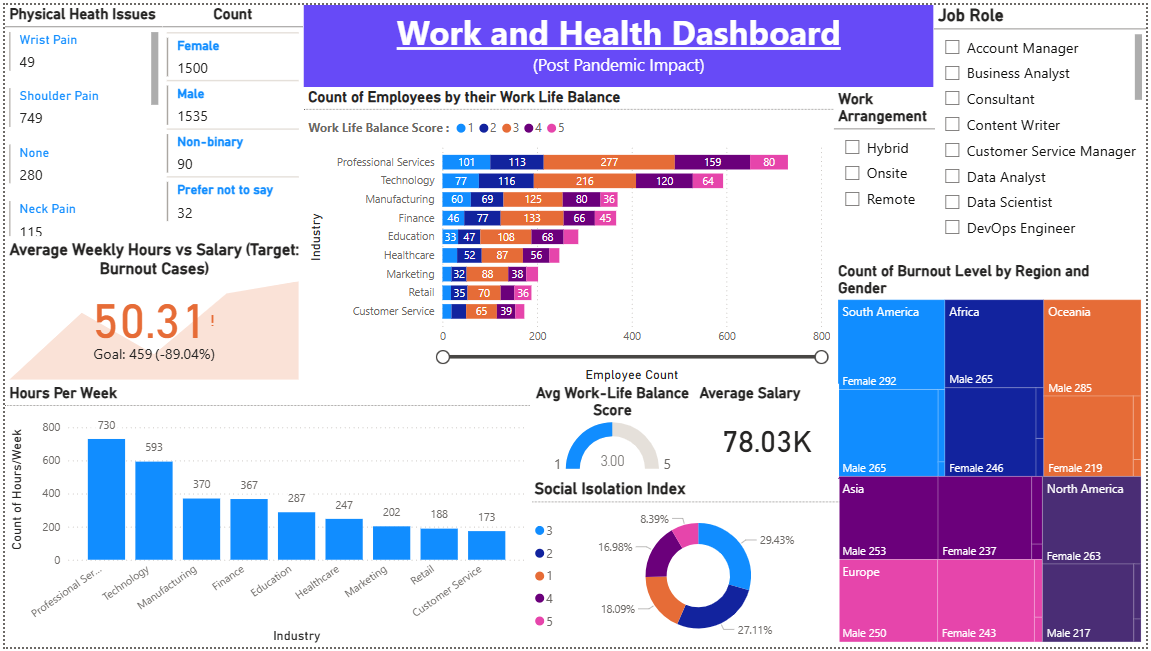

The page's visual inventory and layout, read from the dashboard file:
{"tool":"powerbi","page":{"name":"Page 1","canvas":[1280,720],"ordinal":0},"visuals":[{"type":"textbox","box":[334.8,0,706.7,91.9],"z":0},{"type":"treemap","title":"Count of Burnout Level by Region and Gender","fields":{"Group":["Main.Region"],"Values":["CountNonNull(Main.Burnout_Level)"],"Details":["Main.Gender"]},"box":[930.4,288.2,349.9,432.2],"z":1000},{"type":"lineStackedColumnComboChart","title":"Hours Per Week","fields":{"Y":["CountNonNull(Main.Hours_Per_Week)"],"Category":["Main.Industry"]},"box":[0,425.4,588.7,295],"z":2000},{"type":"slicer","title":"Job Role","fields":{"Values":["Main.Job_Role"]},"box":[1041.9,0,238.4,263.6],"z":3000},{"type":"donutChart","title":"Social Isolation Index","fields":{"Category":["Main.Social_Isolation_Score"],"Y":["CountNonNull(Main.Index)"]},"box":[588.7,531,347.2,189.4],"z":4000},{"type":"barChart","title":"Count of Employees by their Work Life Balance","fields":{"Series":["Main.Work_Life_Balance_Score"],"Category":["Main.Industry"],"Y":["CountNonNull(Main.Index)"]},"box":[334.8,91.9,595.5,333.4],"z":5000},{"type":"multiRowCard","title":"Physical Heath Issues","fields":{"Values":["Issue.Physical_Health_Issues","CountNonNull(Issue.Index)"]},"box":[0,0,176.7,263.6],"z":6000},{"type":"multiRowCard","title":"Count","fields":{"Values":["Main.Gender","Main.Index"]},"box":[177,0,157.8,263.5],"z":7000},{"type":"kpi","title":"Average Weekly Hours vs Salary (Target: Burnout Cases)","fields":{"Indicator":["Avg(Main.Hours_Per_Week)"],"Goal":["CountNonNull(Main.Burnout_Level)"],"TrendLine":["Main.Average_Salary"]},"box":[0,263.5,334.8,161.9],"z":8000},{"type":"slicer","title":"Work Arrangement","fields":{"Values":["Main.Work_Arrangement"]},"box":[930.4,96.1,113.9,192.1],"z":9000},{"type":"gauge","title":"Avg Work-Life Balance Score","fields":{"Y":["Avg(Main.Work_Life_Balance_Score)"],"MaxValue":["Max(Main.Work_Life_Balance_Score)"],"MinValue":["Min(Main.Work_Life_Balance_Score)"]},"box":[588.7,425.4,185.2,105.7],"z":10000},{"type":"card","title":"Average Salary","fields":{"Values":["Avg(Main.Average_Salary)"]},"box":[773.9,425.4,161.9,105.7],"z":11000}]}

Visuals, with their boxes in screenshot pixels (x1, y1, x2, y2), scaled from the page's 1280x720 canvas onto the 1151x651 screenshot:
textbox: Rect(301, 0, 937, 83)
"Count of Burnout Level by Region and Gender" treemap: Rect(837, 261, 1150, 650)
"Hours Per Week" lineStackedColumnComboChart: Rect(0, 385, 529, 650)
"Job Role" slicer: Rect(937, 0, 1150, 238)
"Social Isolation Index" donutChart: Rect(529, 480, 842, 650)
"Count of Employees by their Work Life Balance" barChart: Rect(301, 83, 837, 385)
"Physical Heath Issues" multiRowCard: Rect(0, 0, 159, 238)
"Count" multiRowCard: Rect(159, 0, 301, 238)
"Average Weekly Hours vs Salary (Target: Burnout Cases)" kpi: Rect(0, 238, 301, 385)
"Work Arrangement" slicer: Rect(837, 87, 939, 261)
"Avg Work-Life Balance Score" gauge: Rect(529, 385, 696, 480)
"Average Salary" card: Rect(696, 385, 841, 480)
